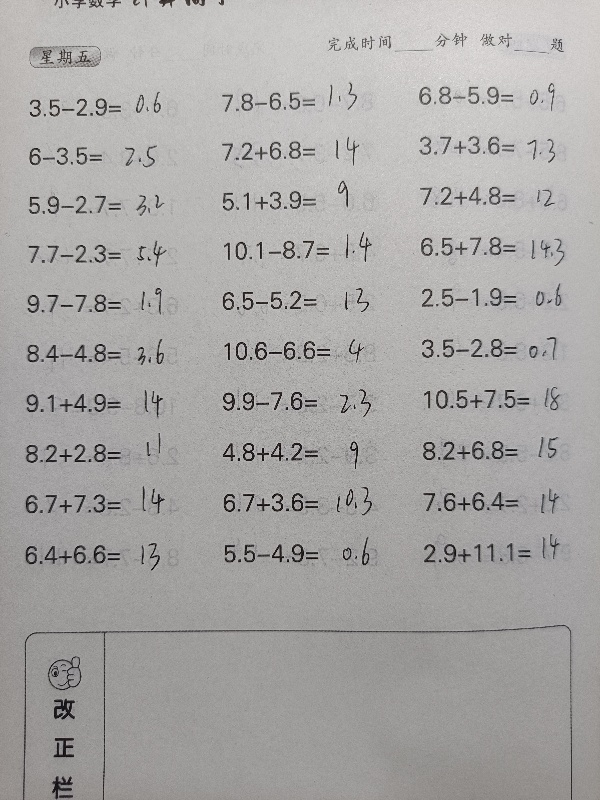equation: (213, 76, 393, 118), (414, 529, 594, 569), (413, 329, 593, 368), (17, 537, 197, 572), (215, 485, 395, 520), (415, 484, 595, 519), (16, 435, 196, 470), (414, 433, 594, 468), (213, 383, 393, 418), (415, 382, 595, 417), (215, 333, 395, 368), (215, 536, 395, 570), (17, 487, 197, 521), (214, 435, 394, 469), (18, 386, 198, 420), (18, 336, 198, 370), (19, 287, 199, 321), (213, 283, 393, 317), (412, 280, 592, 314), (21, 237, 201, 271), (215, 233, 395, 267), (411, 229, 591, 263), (20, 188, 200, 222), (213, 183, 393, 217), (412, 179, 592, 213), (213, 134, 393, 168), (412, 129, 592, 163), (410, 79, 590, 113), (21, 140, 201, 173), (20, 91, 200, 124)
